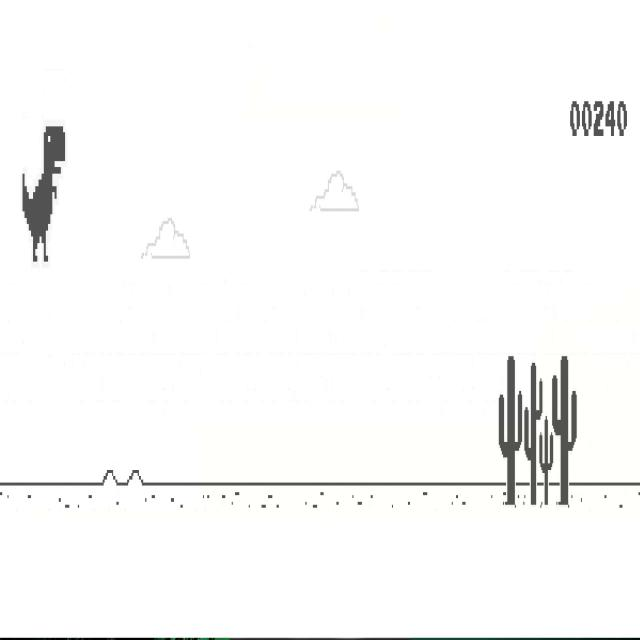cacto: (498, 354, 523, 507), (552, 354, 577, 507), (523, 361, 543, 507), (539, 414, 554, 507)
dino: (21, 124, 66, 264)
